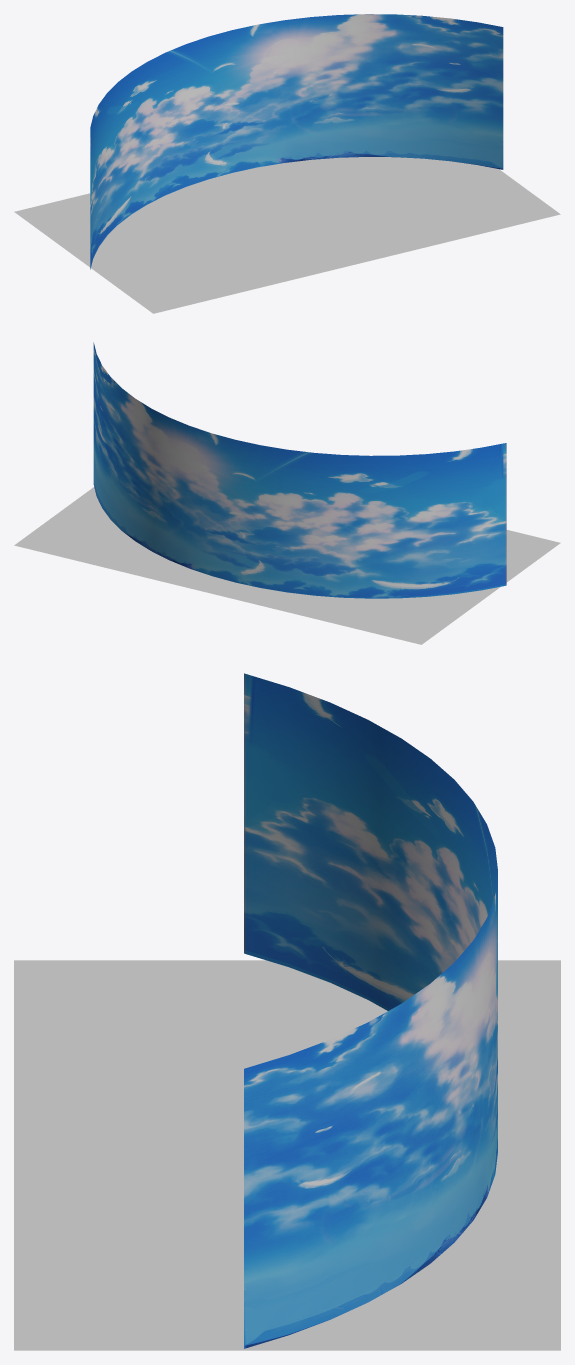
The model's file is beijing.FBX.
The picture shows the model from 3 angles, top to bottom: view 1: azimuth 30°, elevation 25°; view 2: azimuth 150°, elevation 25°; view 3: azimuth 270°, elevation 25°; orthographic projection. The views are drawn at different scales.
Parts seen in each view (by area): view 1: Plane02, Plane03; view 2: Plane02, Plane03; view 3: Plane03, Plane02.
Part boxes in pixels (x1,y1,x2,y2): Plane02: (90,14,503,269); Plane03: (14,157,560,313); Plane02: (93,342,506,598); Plane03: (14,487,560,644); Plane03: (14,960,560,1350); Plane02: (244,673,497,1348).
Size of the model in its own units: 1278 by 426 by 747.
